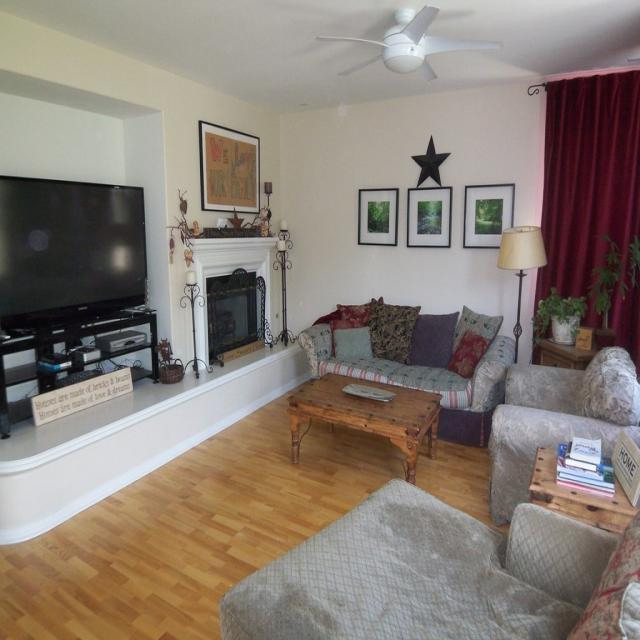fan_off: (317, 4, 509, 89)
